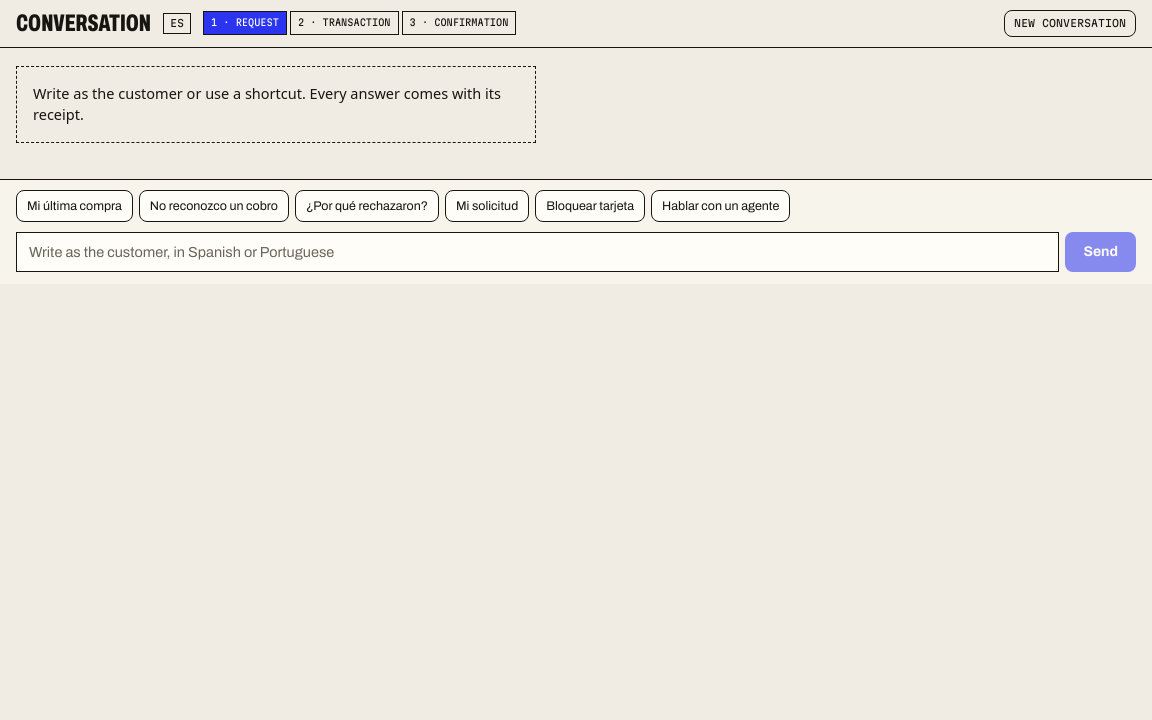
Test: opções da API viram botões que enviam o número escolhido
The image size is (1152, 720).
Type "No reconozco un cobro de 45,90" into the field labelled "Write as the customer, in Spanish or Portuguese" at (538, 252), box left=16, top=232, right=1059, bottom=272
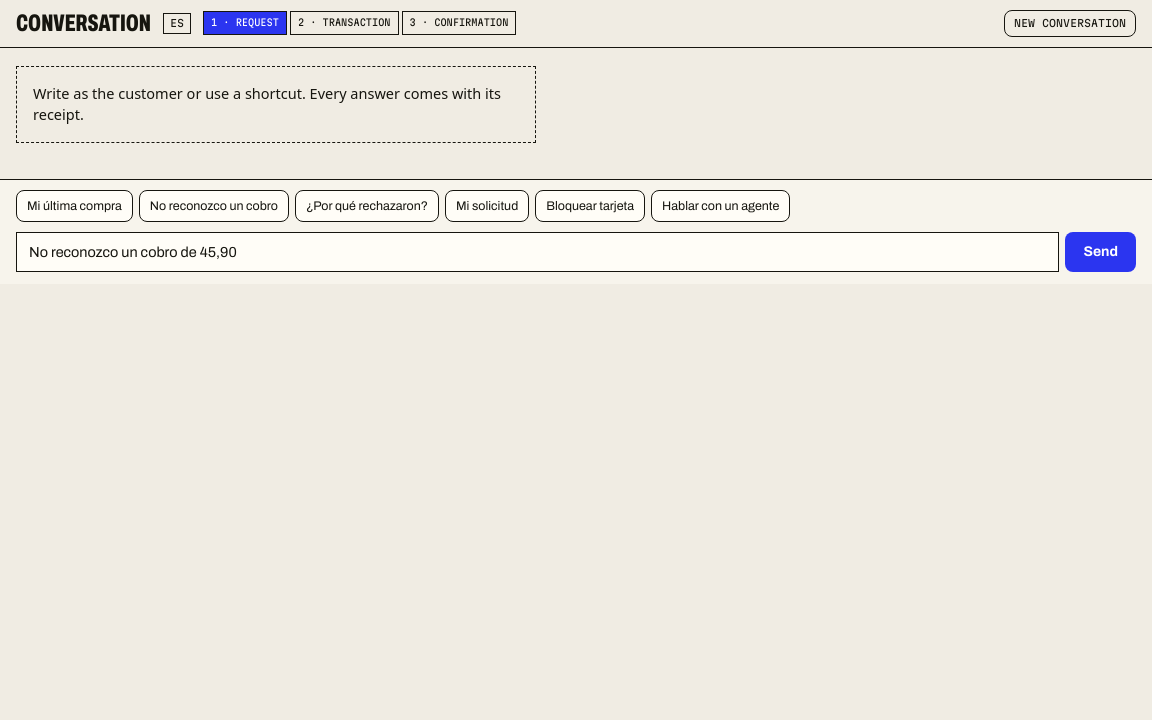
Click the button "Send" at (1101, 252), box left=1065, top=232, right=1136, bottom=272
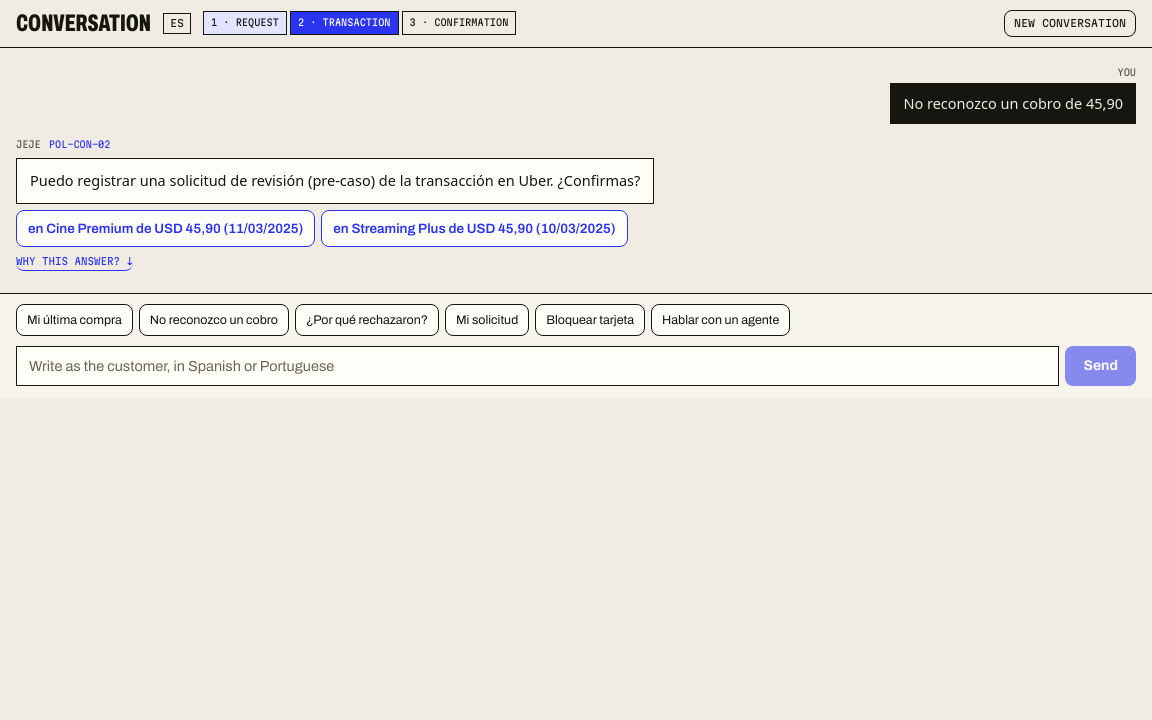
Check: the list item "2 · Transaction" is marked as current, box left=290, top=11, right=398, bottom=35
Click the button "en Streaming Plus de USD 45,90 (10/03/2025)" at (474, 229), box left=321, top=210, right=628, bottom=247
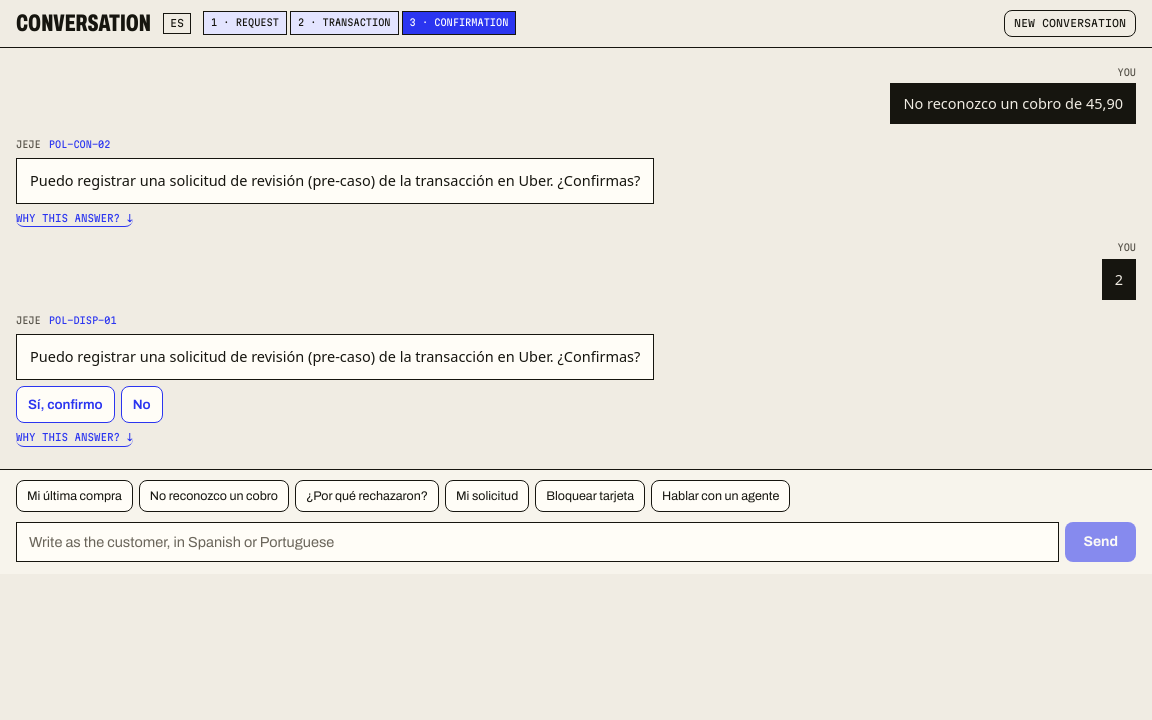
Check: the button "Sí, confirmo" is shown, box left=16, top=386, right=115, bottom=423
